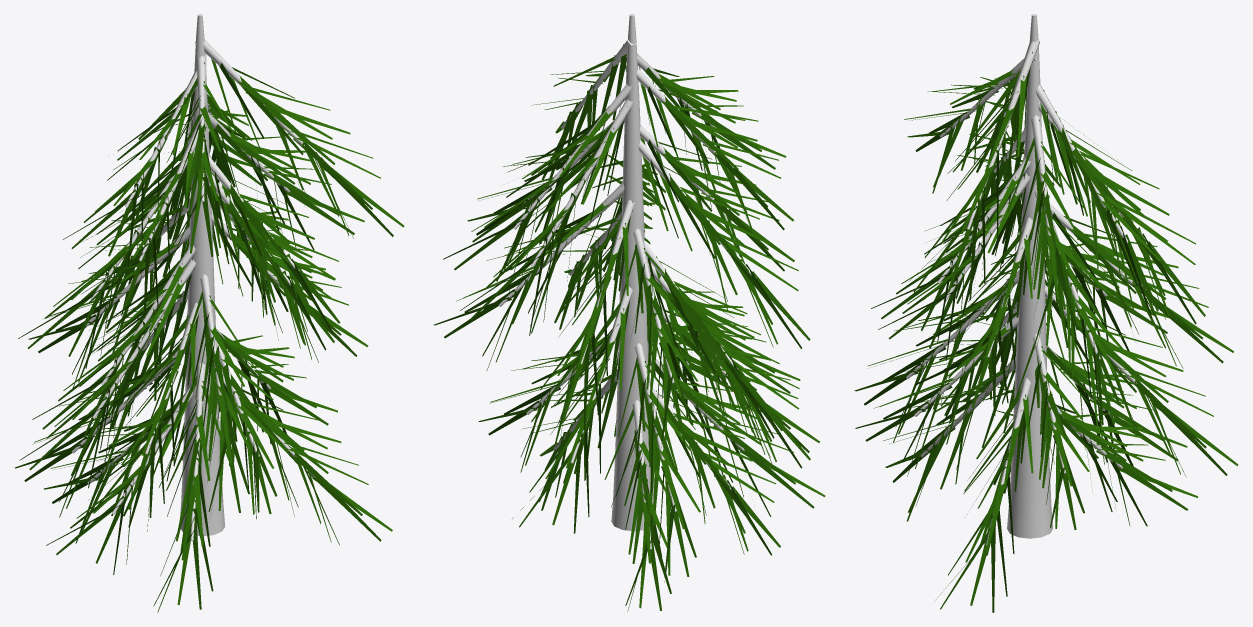
The model's file is Tree02.fbx.
The picture shows the model from 3 angles, left to right: view 1: azimuth 30°, elevation 25°; view 2: azimuth 150°, elevation 25°; view 3: azimuth 270°, elevation 25°; orthographic projection.
Parts seen in each view (by area): view 1: Tree02; view 2: Tree02; view 3: Tree02.
Part boxes in pixels (<box>): Tree02: <box>15,14,404,612</box>; Tree02: <box>433,14,825,611</box>; Tree02: <box>854,14,1238,612</box>.
Size of the model in its own units: 872 by 1312 by 832.
